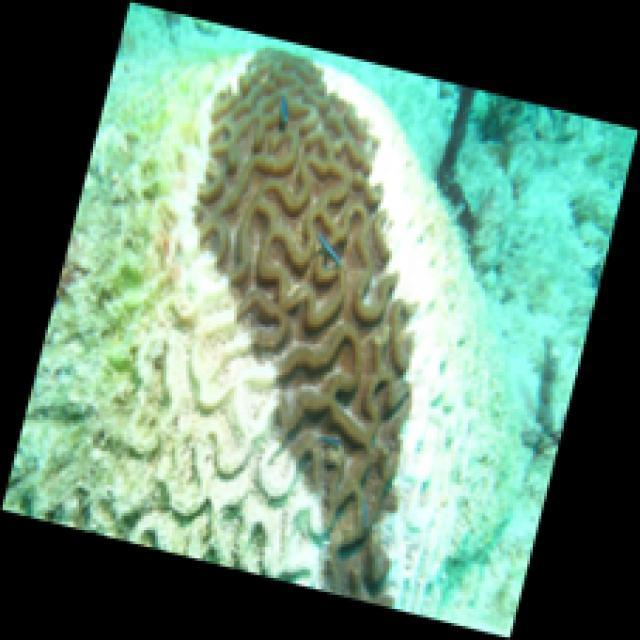Bleached: (134, 45, 512, 640)
Healthy: (195, 50, 416, 609)
